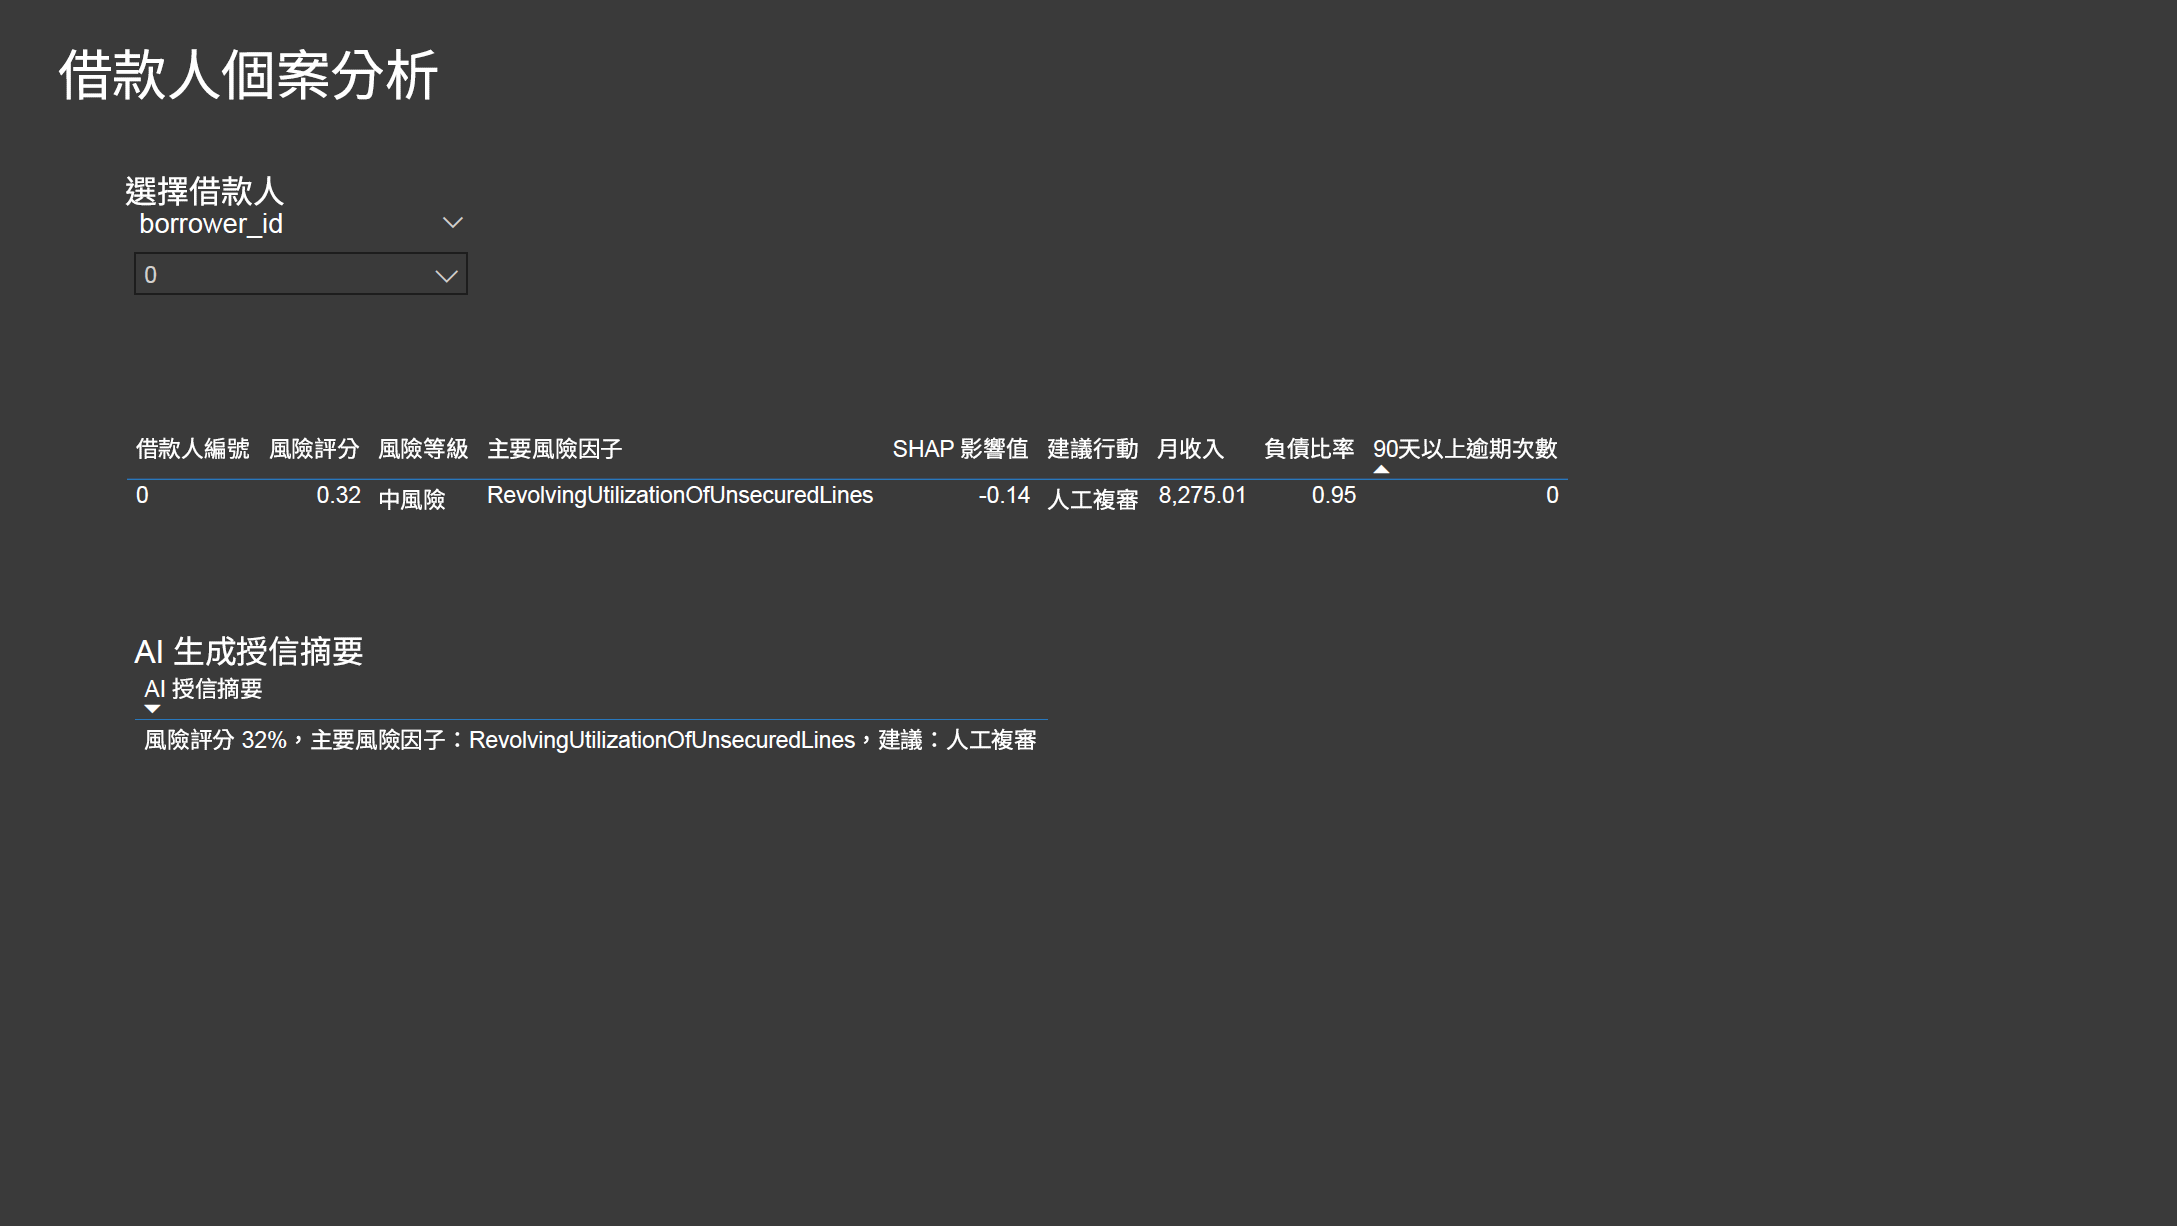

What the dashboard file says about the page in this screenshot:
{"tool":"powerbi","page":{"name":"單一借款人詳情","canvas":[1280,720],"ordinal":3},"visuals":[{"type":"slicer","title":"選擇借款人","fields":{"Values":["powerbi_dashboard_clean.borrower_id"]},"box":[70.2,97.3,215.8,78.6],"z":0},{"type":"tableEx","fields":{"Values":["powerbi_dashboard_clean.borrower_id_text","powerbi_dashboard_clean.risk_score","powerbi_dashboard_clean.risk_level","powerbi_dashboard_clean.top_shap_feature","powerbi_dashboard_clean.shap_value_top1","powerbi_dashboard_clean.recommended_action","powerbi_dashboard_clean.MonthlyIncome","powerbi_dashboard_clean.DebtRatio","powerbi_dashboard_clean.NumberOfTimes90DaysLate"]},"box":[70.2,246.7,1121.5,85],"z":1000},{"type":"tableEx","title":"AI 生成授信摘要","fields":{"Values":["powerbi_dashboard_clean.genai_summary"]},"box":[74.7,367.2,764.7,260.9],"z":2000},{"type":"textbox","box":[30.3,13.5,340.8,60.6],"z":3000}]}

Visuals, with their boxes in screenshot pixels (x1, y1, x2, y2), scaled from the page's 1280x720 canvas onto the 2177x1226 screenshot:
"選擇借款人" slicer: 119, 166, 486, 300
tableEx - powerbi_dashboard_clean.borrower_id_text x powerbi_dashboard_clean.risk_score: 119, 420, 2027, 565
"AI 生成授信摘要" tableEx: 127, 625, 1428, 1070
textbox: 52, 23, 631, 126
